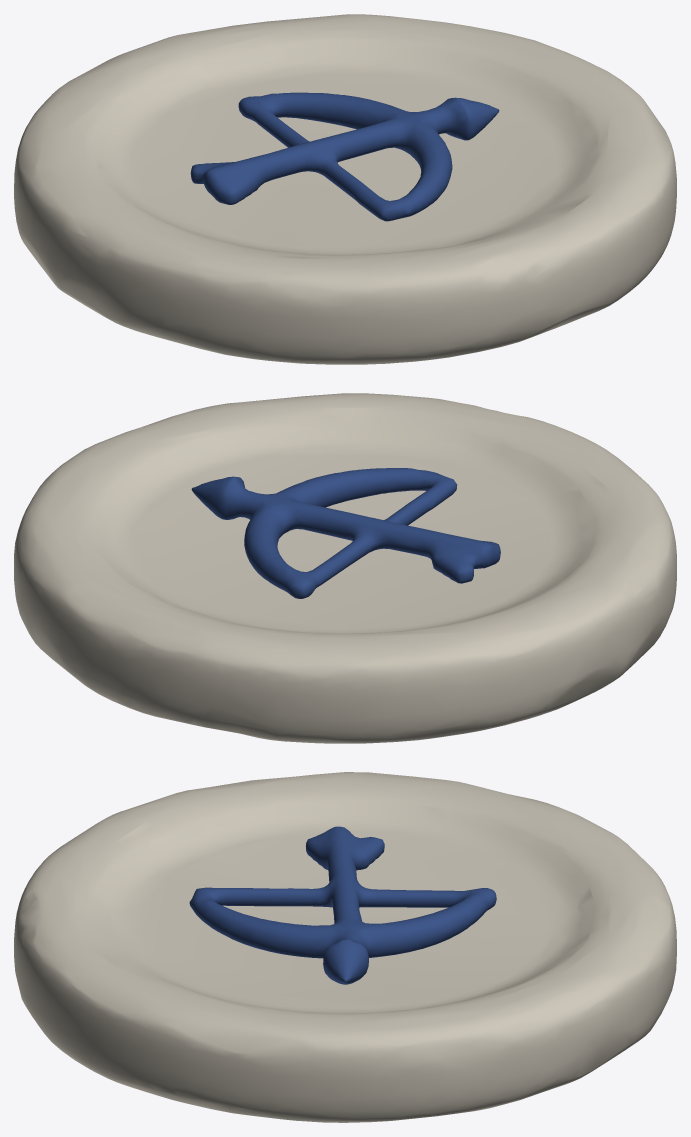
File: token-archer-blue-draco.glb
3 views of the same model, one above another, from view 1: azimuth 30°, elevation 25°; view 2: azimuth 150°, elevation 25°; view 3: azimuth 270°, elevation 25° (orthographic).
Parts seen in each view (by area): view 1: token_archer_blue; view 2: token_archer_blue; view 3: token_archer_blue.
Boxes of the visible parts, x1,y1,x2,y2 form: token_archer_blue: [14, 14, 676, 364]; token_archer_blue: [14, 393, 676, 743]; token_archer_blue: [14, 772, 676, 1122].
Bounding box in the file's own units: 0.4139 × 0.0746 × 0.414.
